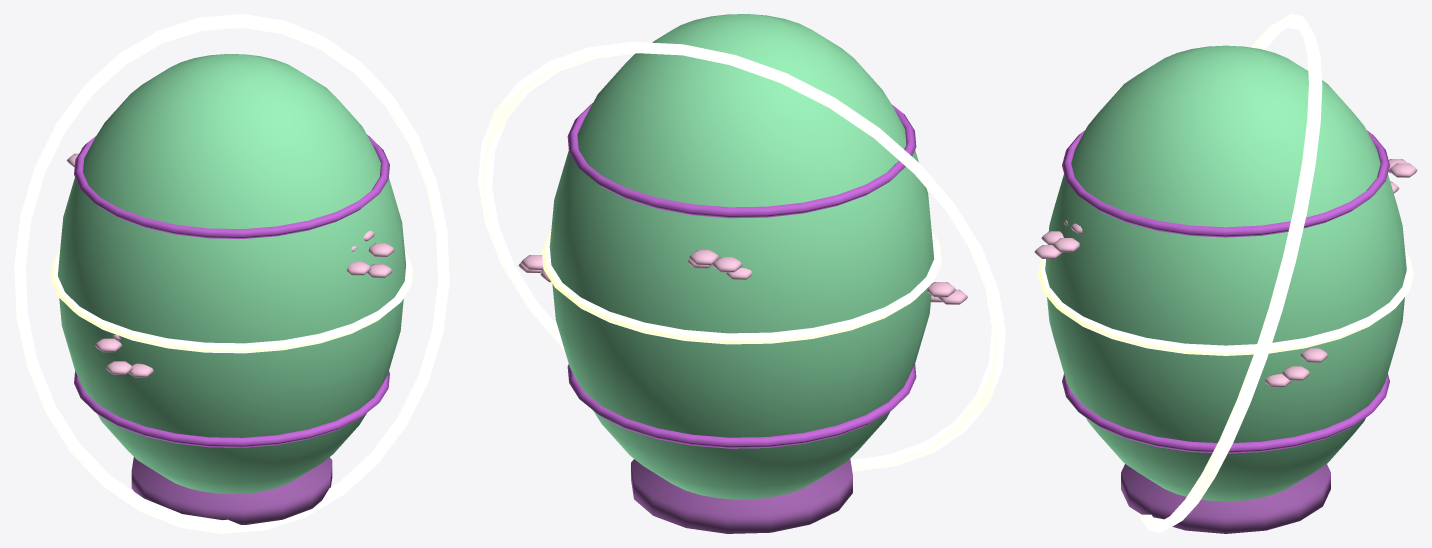
The model's file is egg_alien_11.glb.
3 renders of one model, left to right at view 1: azimuth 30°, elevation 25°; view 2: azimuth 150°, elevation 25°; view 3: azimuth 270°, elevation 25°, orthographic. The views are drawn at different scales.
Parts seen in each view (by area): view 1: ball; view 2: ball; view 3: ball.
Boxes of the visible parts, x1,y1,x2,y2 form: ball: (14,14,449,533); ball: (478,14,1005,533); ball: (1034,14,1417,533).
Size of the model in its own units: 1.12 by 1.06 by 0.8038.
